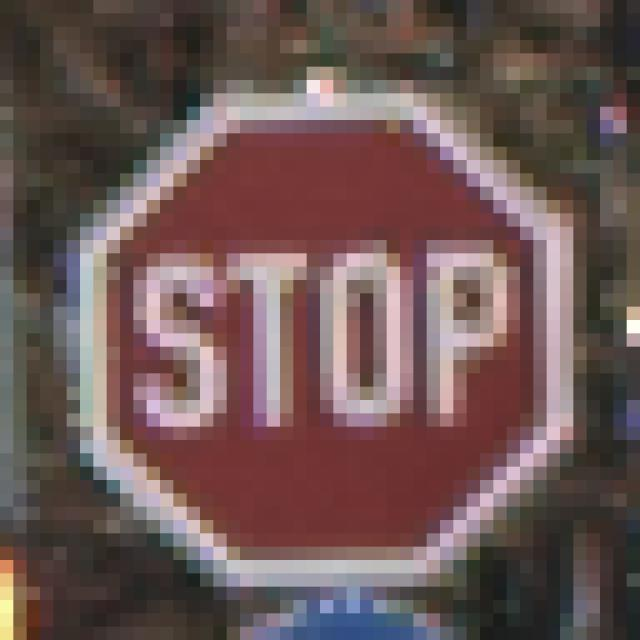STOP: (68, 81, 574, 574)
